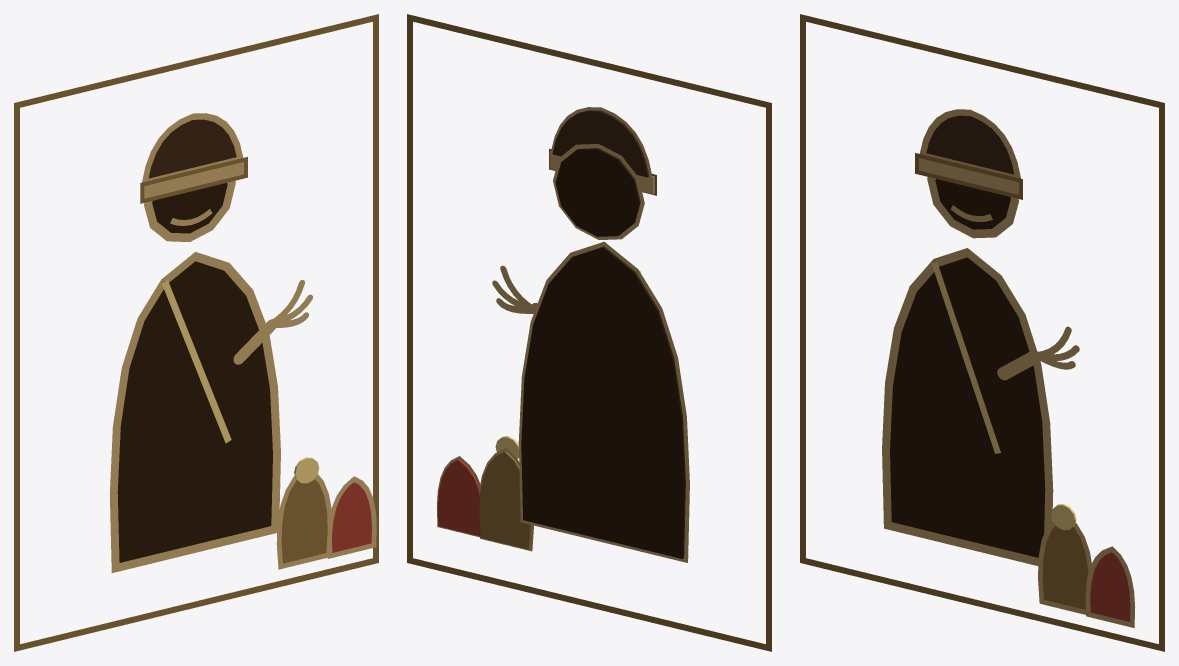
Rendered from npc-kupets-sauma.glb.
3 views of the same model, side by side, from view 1: azimuth 30°, elevation 25°; view 2: azimuth 150°, elevation 25°; view 3: azimuth 330°, elevation 25° (orthographic).
Visible parts, largest first — view 1: npc-kupets-sauma; view 2: npc-kupets-sauma; view 3: npc-kupets-sauma.
Part boxes in pixels (<box>): npc-kupets-sauma: <box>14,14,378,651</box>; npc-kupets-sauma: <box>407,14,771,651</box>; npc-kupets-sauma: <box>800,14,1164,651</box>.
Bounding box in the file's own units: 1.14 × 1.64 × 0.0825.
